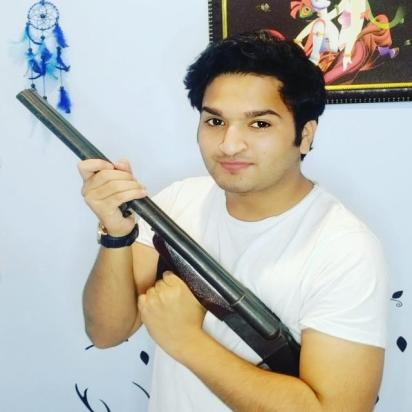Gun: (15, 82, 350, 412)
